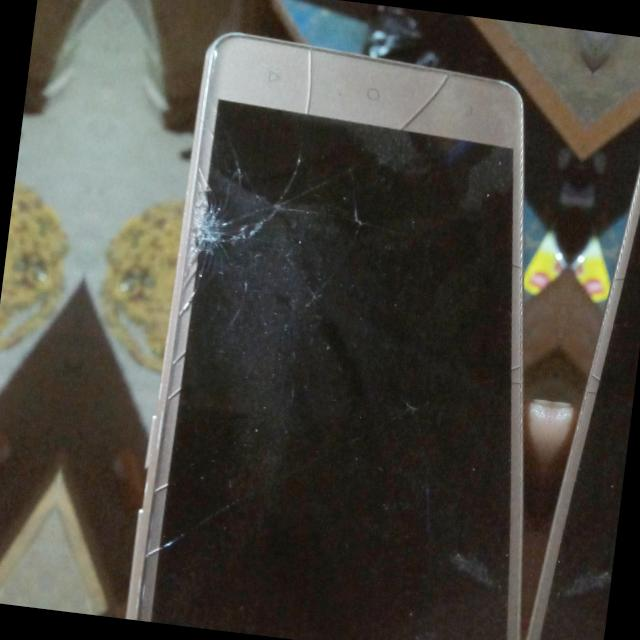phone_screen: (152, 101, 513, 639), (540, 213, 639, 639)
